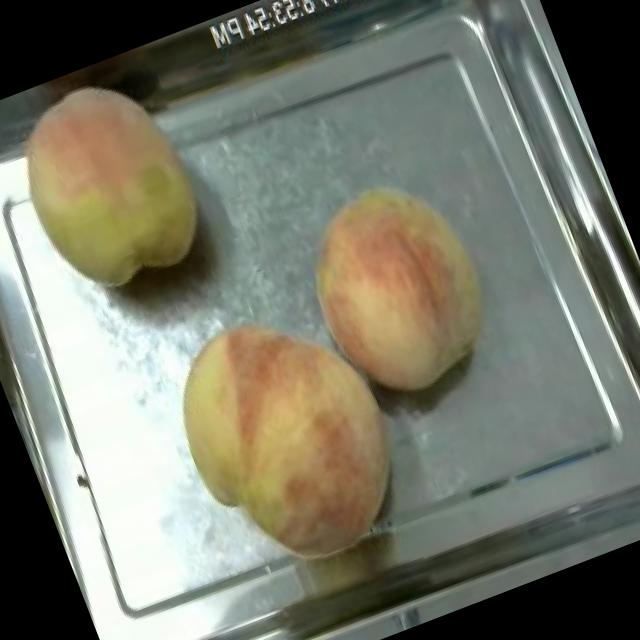Fruit: (137, 274, 436, 598), (274, 153, 524, 424), (0, 51, 232, 318)
